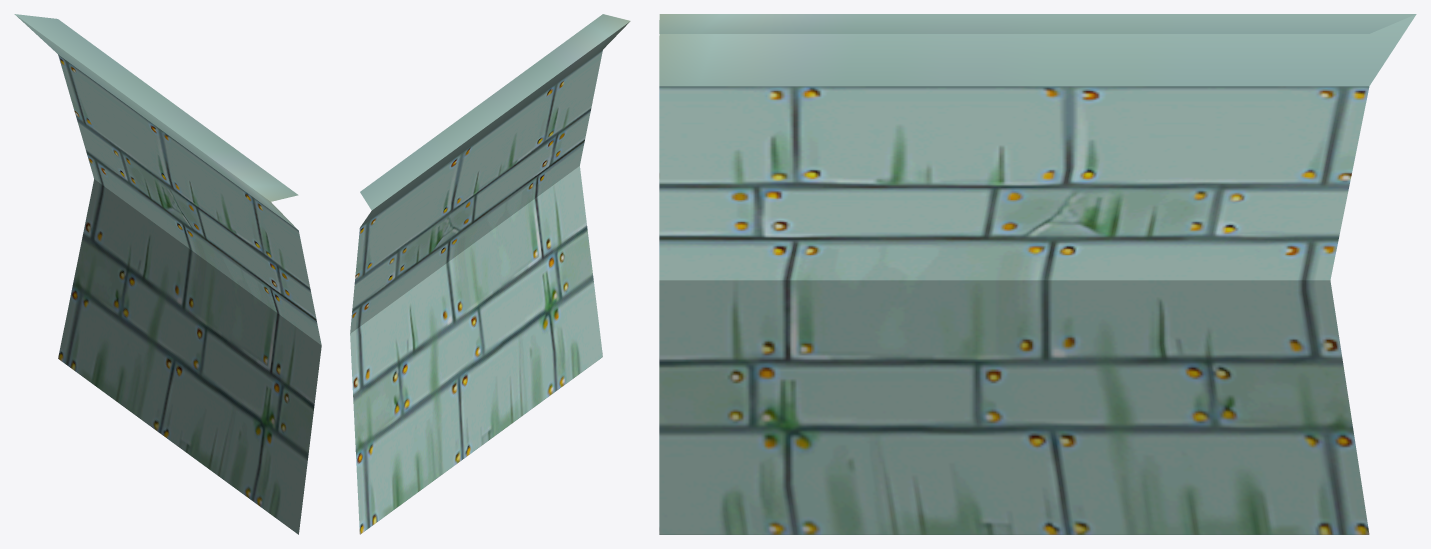
Rendered from W_A2r_xx [Türkis]_1665.glb.
3 views of the same model, side by side, from view 1: azimuth 30°, elevation 25°; view 2: azimuth 150°, elevation 25°; view 3: azimuth 270°, elevation 25° (orthographic). The views are drawn at different scales.
Visible parts, largest first — view 1: pPlaneShape1, polySurfaceShape1065; view 2: pPlaneShape1, polySurfaceShape1065; view 3: pPlaneShape1, polySurfaceShape1065.
Part boxes in pixels (<box>): pPlaneShape1: <box>58,54,321,534</box>; polySurfaceShape1065: <box>14,14,298,229</box>; pPlaneShape1: <box>350,50,602,534</box>; polySurfaceShape1065: <box>360,14,630,227</box>; pPlaneShape1: <box>659,86,1369,534</box>; polySurfaceShape1065: <box>659,14,1416,86</box>.
Size of the model in its own units: 0.0607 by 0.3891 by 0.5333.
Materials: 2 (2 with a texture image).
